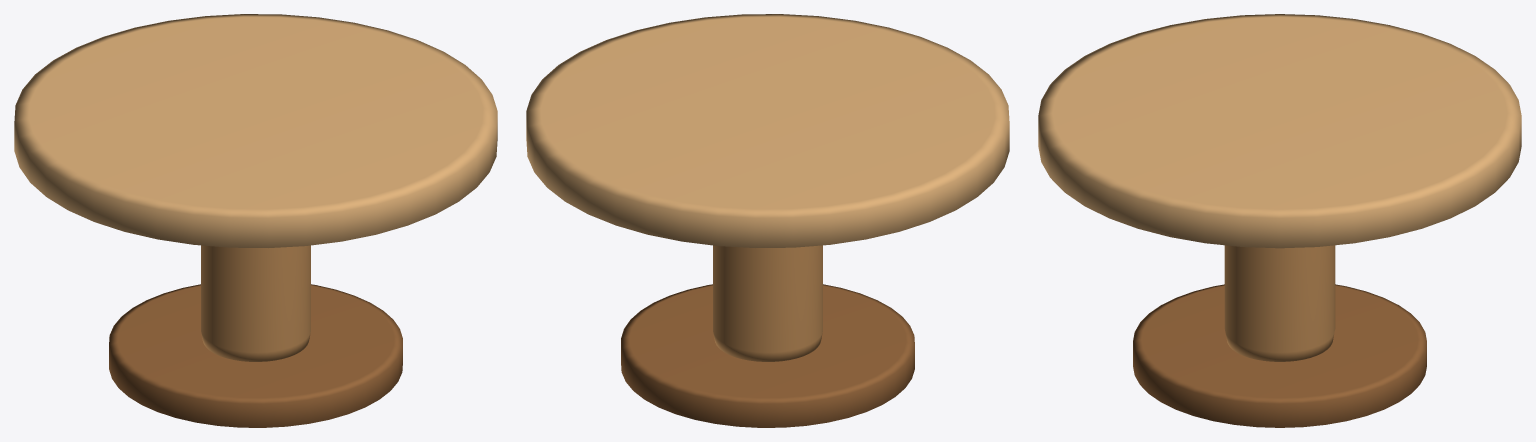
Rendered from cafe-table.obj.
The picture shows the model from 3 angles, left to right: view 1: azimuth 30°, elevation 25°; view 2: azimuth 150°, elevation 25°; view 3: azimuth 270°, elevation 25°; orthographic projection.
Visible parts, largest first — view 1: cafe-table_oakLight, cafe-table_oakDark, cafe-table_oak; view 2: cafe-table_oakLight, cafe-table_oakDark, cafe-table_oak; view 3: cafe-table_oakLight, cafe-table_oakDark, cafe-table_oak.
Boxes of the visible parts, <box> form: cafe-table_oakLight: <box>14,14,497,247</box>; cafe-table_oakDark: <box>109,284,402,427</box>; cafe-table_oak: <box>201,245,310,361</box>; cafe-table_oakLight: <box>526,14,1009,247</box>; cafe-table_oakDark: <box>621,284,914,427</box>; cafe-table_oak: <box>713,245,822,361</box>; cafe-table_oakLight: <box>1038,14,1521,248</box>; cafe-table_oakDark: <box>1133,284,1426,427</box>; cafe-table_oak: <box>1224,245,1335,361</box>.
Size of the model in its own units: 0.92 by 0.535 by 0.92.
